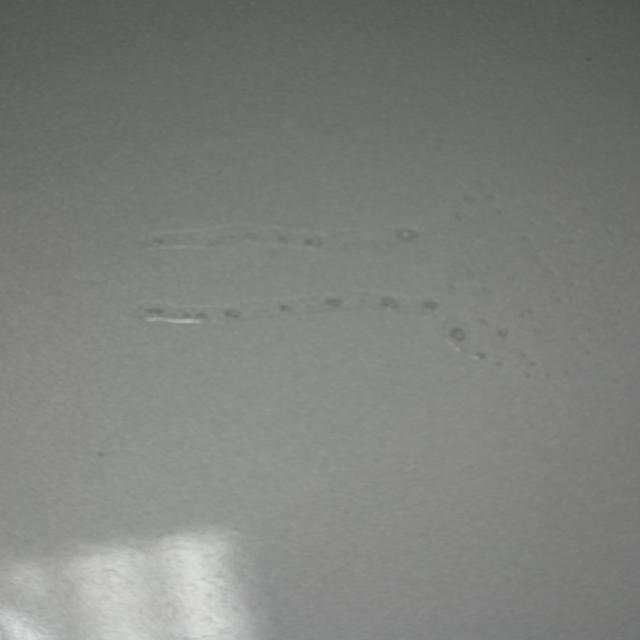runs: (130, 185, 621, 387)
